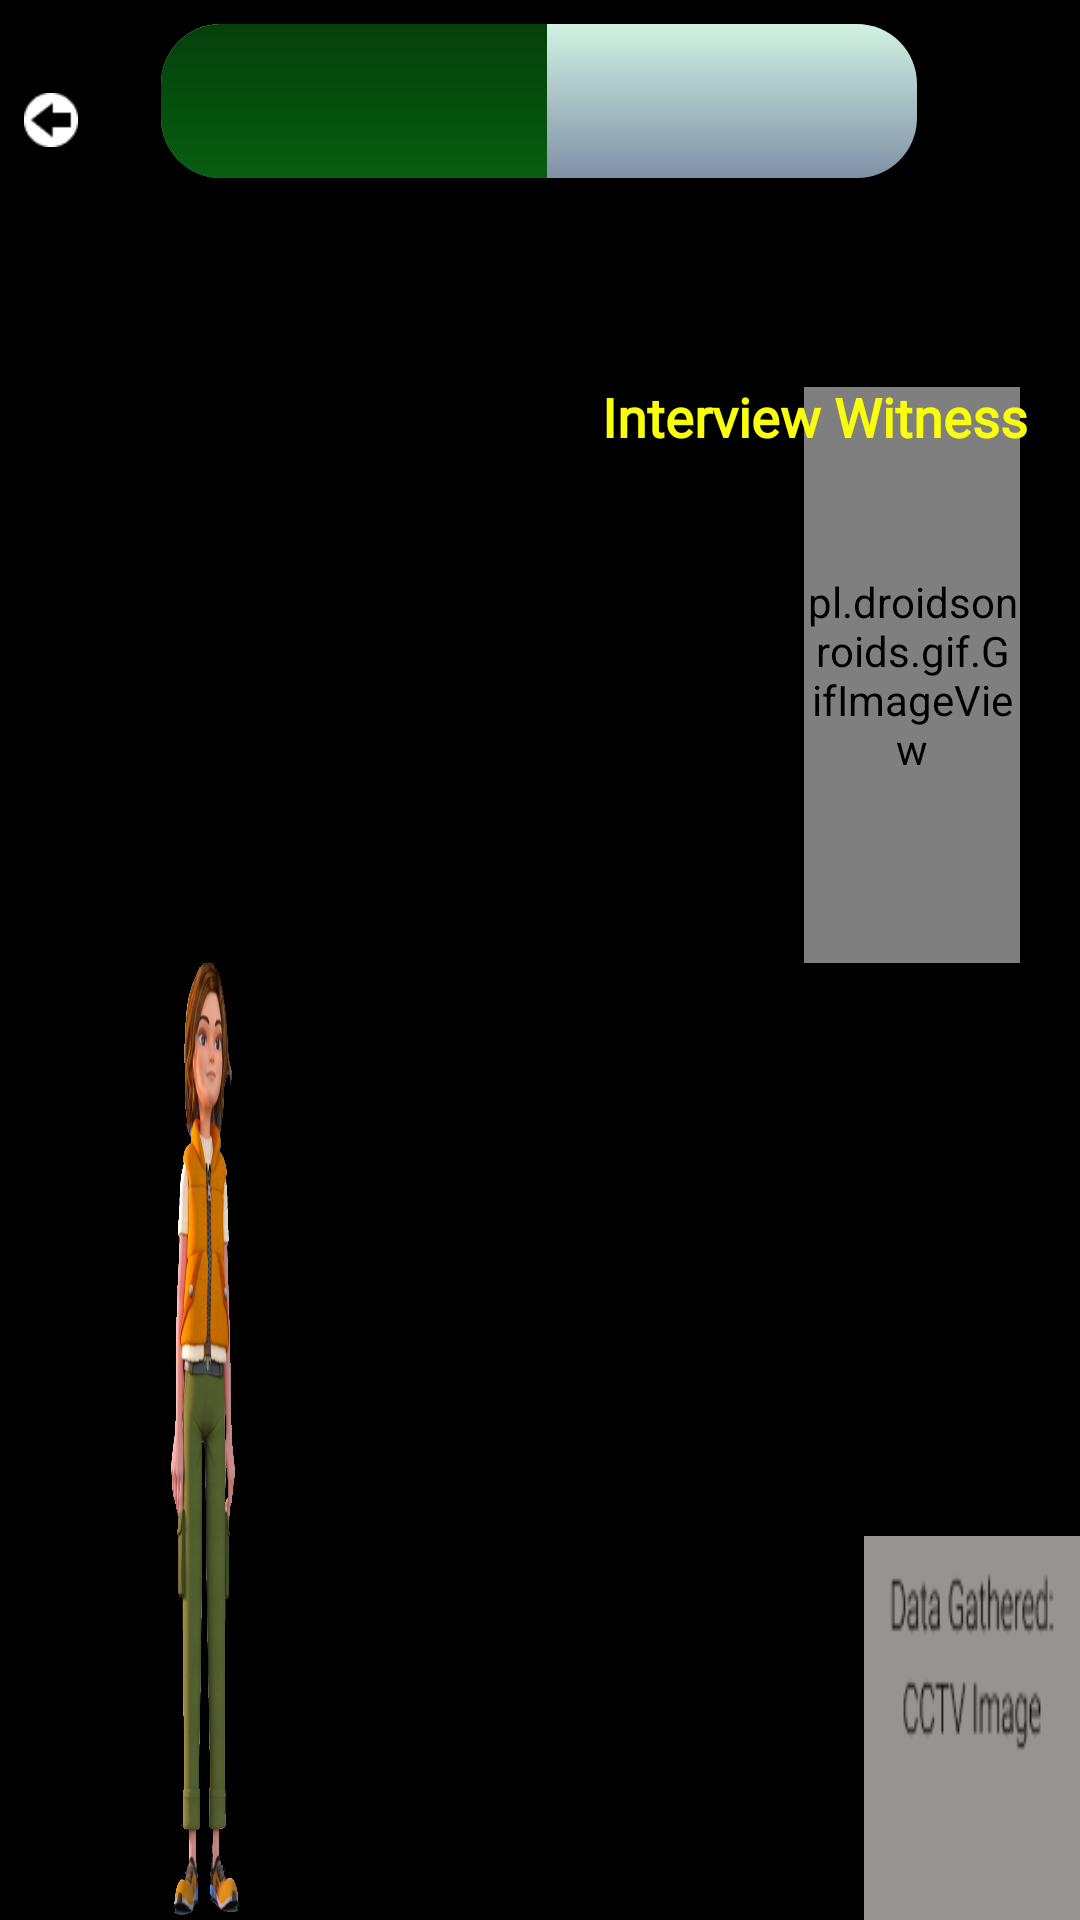

Icon bounding boxes for this 1080×1920 phone screenshot, format BBox(x1, y1, x2, y2):
arrow: BBox(24, 93, 78, 147)
